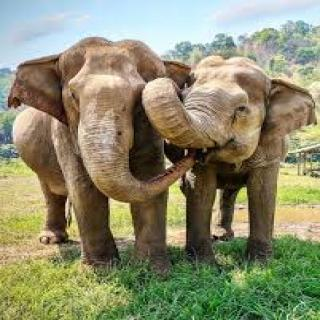Elephant: (3, 33, 194, 277), (142, 51, 318, 269)
